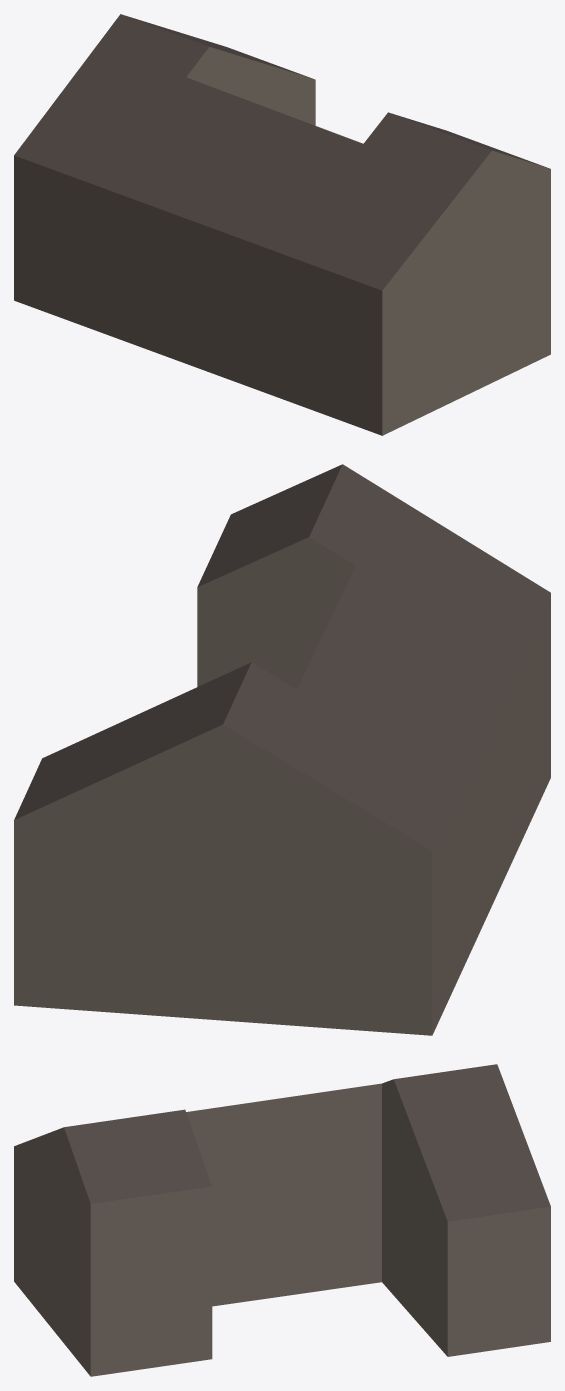
The picture shows the model from 3 angles, top to bottom: view 1: azimuth 30°, elevation 25°; view 2: azimuth 150°, elevation 25°; view 3: azimuth 270°, elevation 25°; orthographic projection. The views are drawn at different scales.
Parts seen in each view (by area): view 1: HP-w1197560026; view 2: HP-w1197560026; view 3: HP-w1197560026.
Boxes of the visible parts, x1,y1,x2,y2 form: HP-w1197560026: [14, 14, 550, 435]; HP-w1197560026: [14, 464, 550, 1035]; HP-w1197560026: [14, 1064, 550, 1376].
Size of the model in its own units: 22.54 by 14.4 by 32.41.
